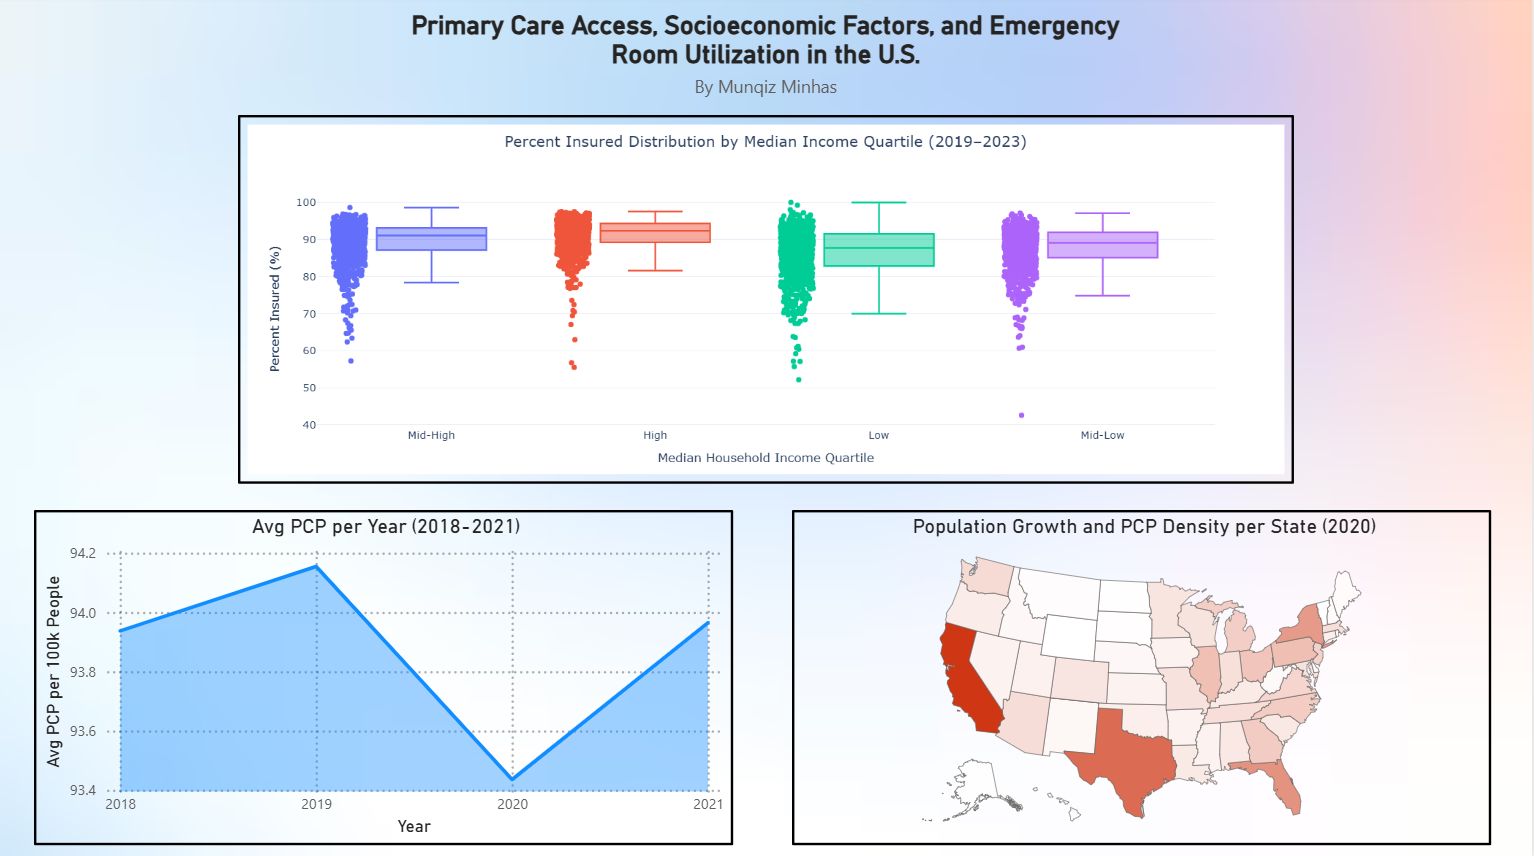

The page's visual inventory and layout, read from the dashboard file:
{"tool":"powerbi","page":{"name":"Socioeconomic Moderation Analysis","canvas":[1280,720],"ordinal":1},"visuals":[{"type":"textbox","title":"Primary Care Access, Socioeconomic Factors, and Emergency Room Utilization in the U.S.","box":[325,11.7,629.3,112.2],"z":0},{"type":"areaChart","title":"Avg PCP per Year (2018-2021)","fields":{"Y":["merged_regression_data.Avg PCP per Year"],"Category":["primary_care_physicians_2018_2021_cleaned.Year"]},"box":[28.7,429.1,584,280.1],"z":1000},{"type":"image","box":[198.4,99.7,882.5,307.9],"z":4000},{"type":"shapeMap","title":"Population Growth and PCP Density per State (2020)","fields":{"Category":["pcp_population_2020_merged.State_Full"],"Value":["Sum(pcp_population_2020_merged.Population_2020)"]},"box":[661.6,429.1,584.4,280.1],"z":6000}]}

Visuals, with their boxes in screenshot pixels (x1, y1, x2, y2), scaled from the page's 1280x720 canvas onto the 1534x856 screenshot:
"Primary Care Access, Socioeconomic Factors, and Emergency Room Utilization in the U.S." textbox: <box>389,14,1144,147</box>
"Avg PCP per Year (2018-2021)" areaChart: <box>34,510,734,843</box>
image: <box>238,119,1295,485</box>
"Population Growth and PCP Density per State (2020)" shapeMap: <box>793,510,1493,843</box>
